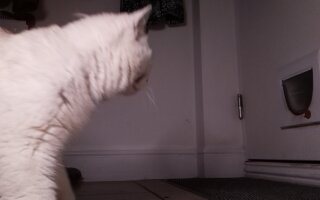bad: (1, 9, 156, 199)
